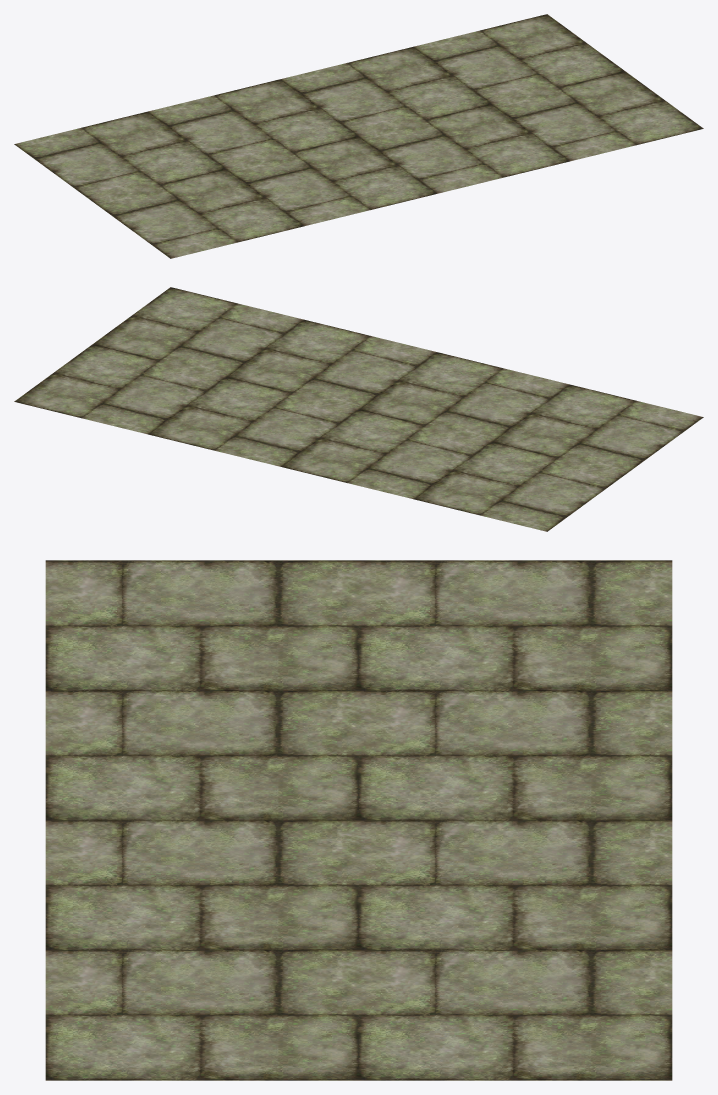
The model's file is OVERHILL_A_01_OBJECT111.fbx.
3 renders of one model, top to bottom at view 1: azimuth 30°, elevation 25°; view 2: azimuth 150°, elevation 25°; view 3: azimuth 270°, elevation 25°, orthographic. The views are drawn at different scales.
Visible parts, largest first — view 1: OVERHILL_A_01_OBJECT111; view 2: OVERHILL_A_01_OBJECT111; view 3: OVERHILL_A_01_OBJECT111.
Boxes of the visible parts, x1,y1,x2,y2 form: OVERHILL_A_01_OBJECT111: (14,14,703,258); OVERHILL_A_01_OBJECT111: (14,287,703,531); OVERHILL_A_01_OBJECT111: (45,560,672,1080).
Bounding box in the file's own units: 154365 × 0.0189 × 78568.
1 material, 1 textured.
